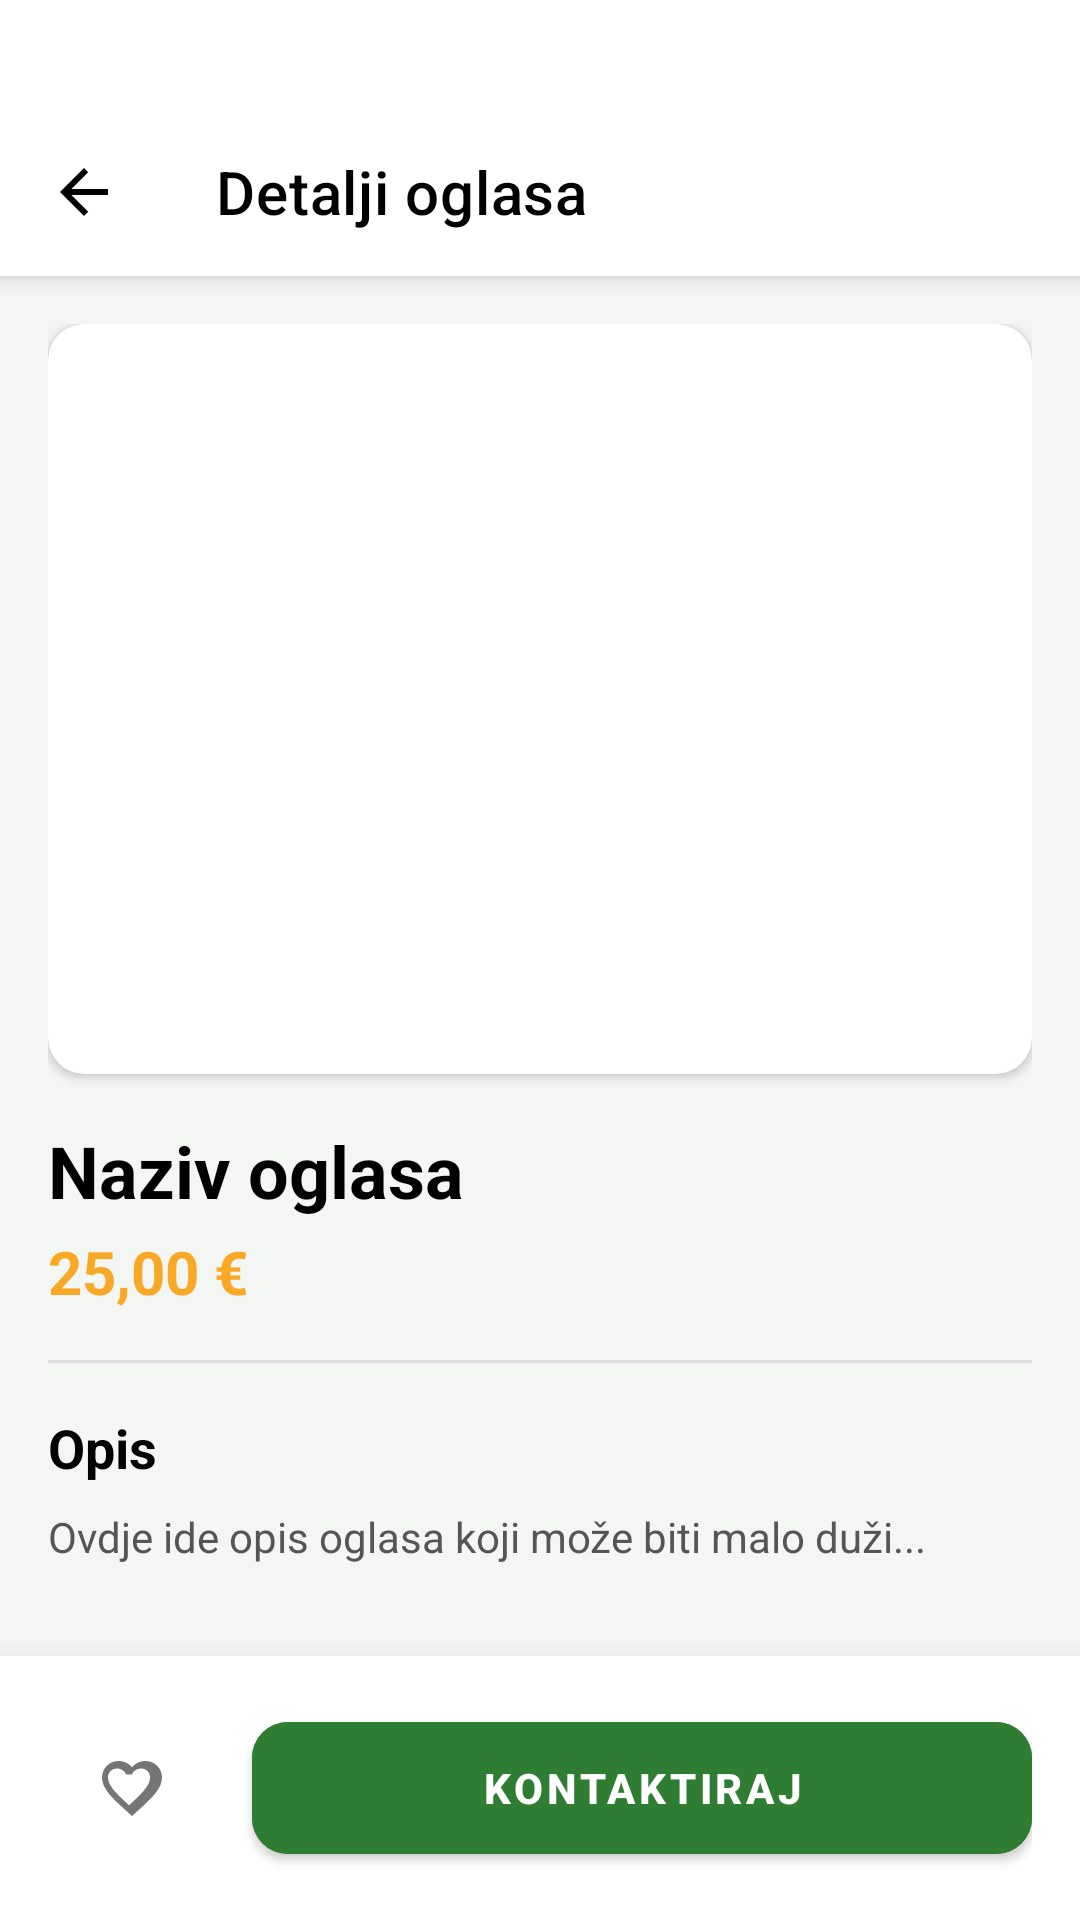

Locate icon controls on the screen. Image size 1080*1920, boxes as (x1, y1, x2, y2).
Omiljeno: (102, 1761, 162, 1816)
